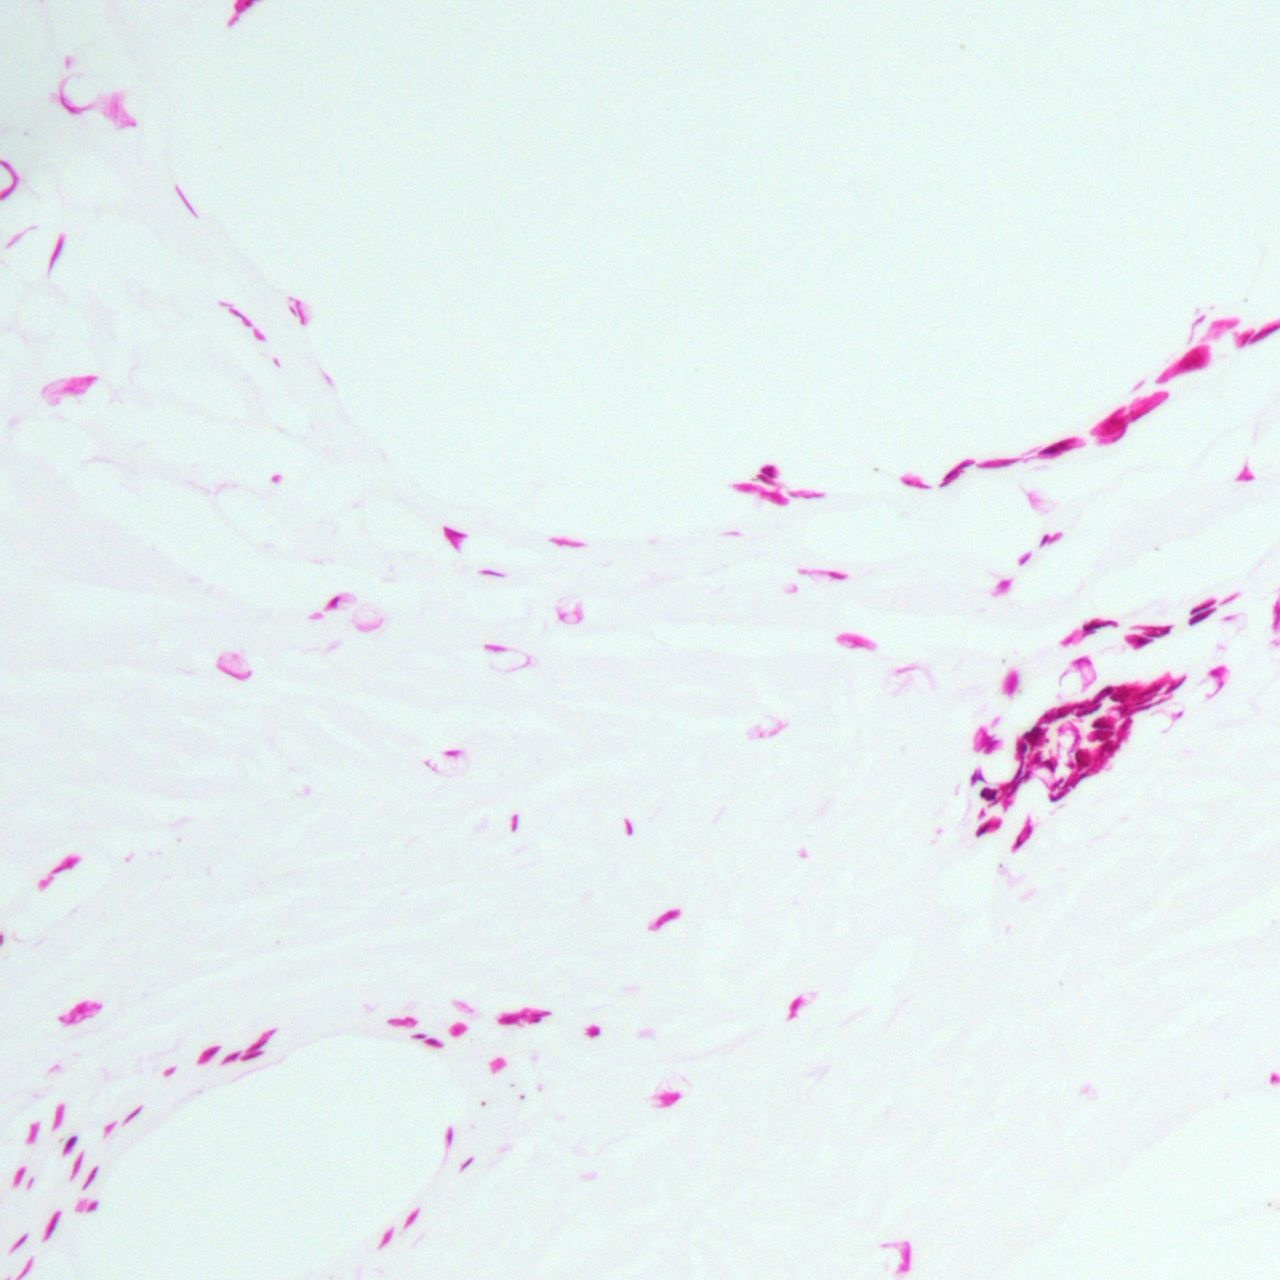dust: (481, 1099, 485, 1107), (520, 1094, 524, 1099)
nucleus-FG: (1032, 431, 1087, 467), (938, 452, 975, 489), (243, 1026, 280, 1054), (971, 813, 1005, 840), (499, 1007, 549, 1024), (40, 1207, 64, 1240), (651, 904, 681, 930), (798, 565, 847, 580), (1121, 631, 1152, 653), (1083, 612, 1116, 632), (898, 471, 931, 491), (1187, 604, 1217, 626), (193, 1042, 220, 1065), (67, 1150, 86, 1178), (1024, 726, 1047, 749), (1189, 595, 1214, 615), (60, 1132, 80, 1156), (80, 1164, 98, 1189), (324, 592, 345, 613), (1048, 784, 1070, 804), (760, 459, 779, 481), (990, 576, 1012, 595), (123, 1105, 143, 1124), (1141, 624, 1169, 636), (457, 1155, 475, 1173), (978, 459, 1017, 468), (1016, 549, 1033, 567), (1039, 532, 1051, 549), (980, 787, 995, 799), (586, 1024, 600, 1036), (445, 1126, 452, 1142), (626, 819, 632, 835), (411, 1033, 425, 1039), (512, 813, 517, 830)
